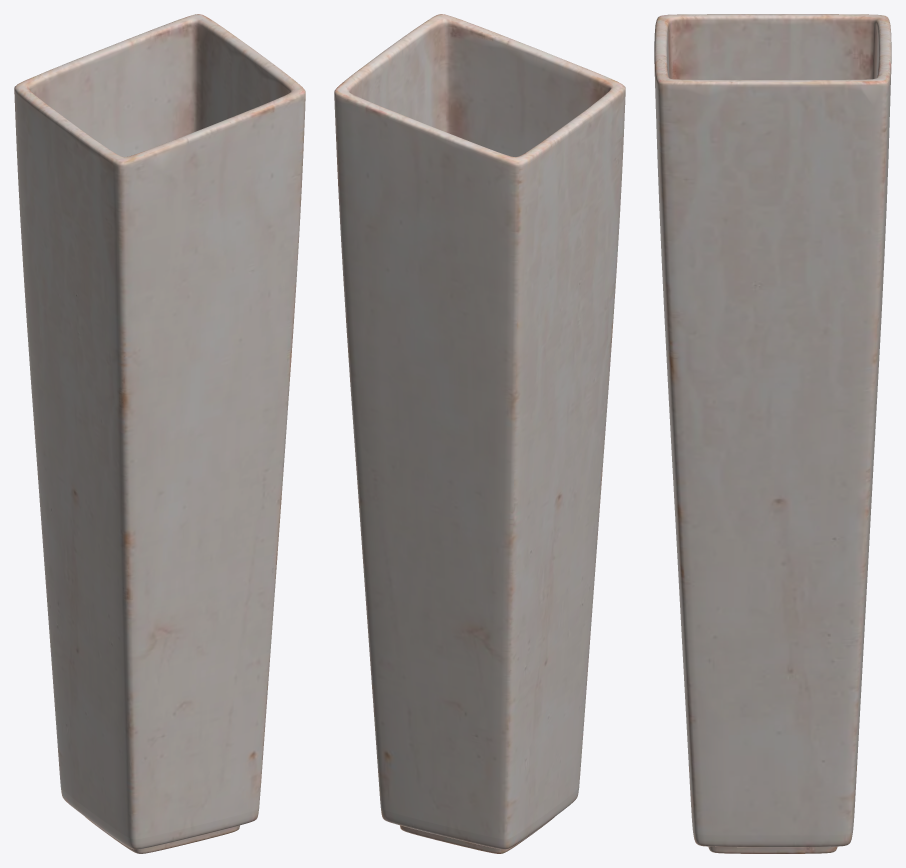
Rendered from ph-square-vase.glb.
3 renders of one model, left to right at view 1: azimuth 30°, elevation 25°; view 2: azimuth 150°, elevation 25°; view 3: azimuth 270°, elevation 25°, orthographic. The views are drawn at different scales.
Visible parts, largest first — view 1: ceramic_vase_03; view 2: ceramic_vase_03; view 3: ceramic_vase_03.
Boxes of the visible parts, x1,y1,x2,y2 form: ceramic_vase_03: [14, 14, 305, 853]; ceramic_vase_03: [334, 14, 625, 853]; ceramic_vase_03: [654, 14, 891, 853].
Bounding box in the file's own units: 0.1123 × 0.4144 × 0.1123.
Materials: 1 (1 with a texture image).
